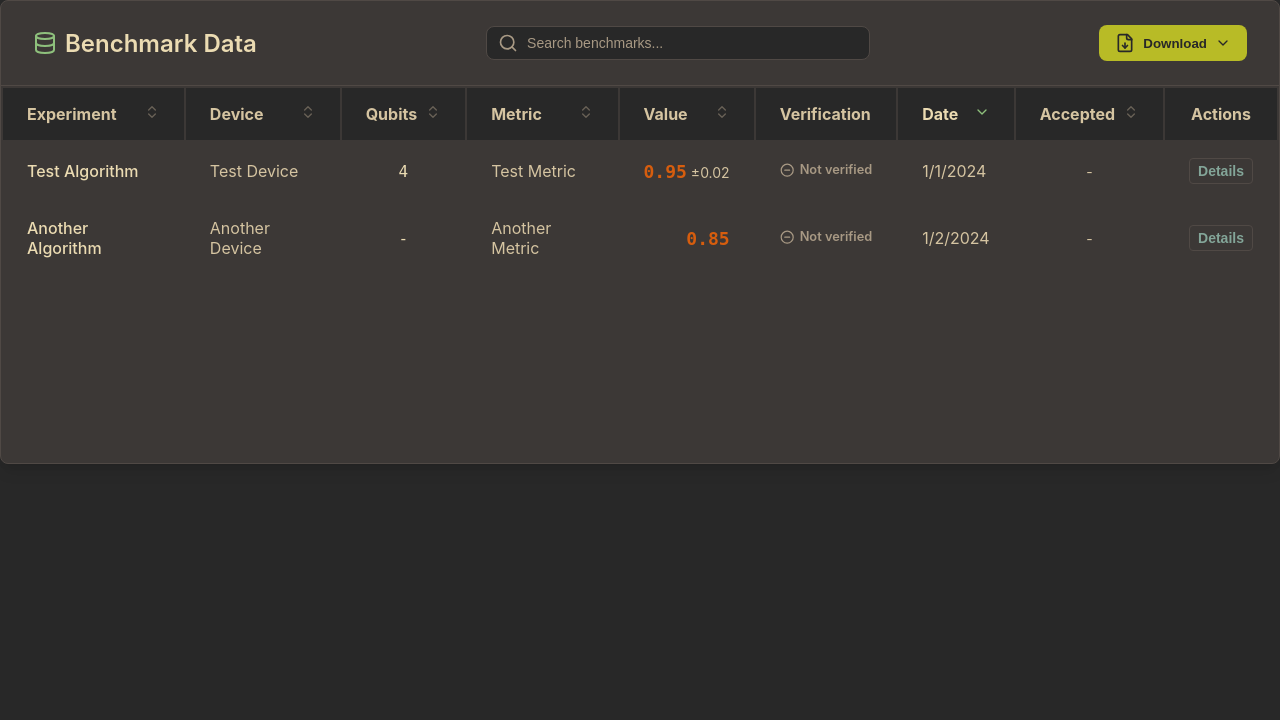
Test case: BenchmarkTable › shows timing coherence ratios when timing is present
Click the text "Test Algorithm" at (93, 171), box [3,142,184,200]
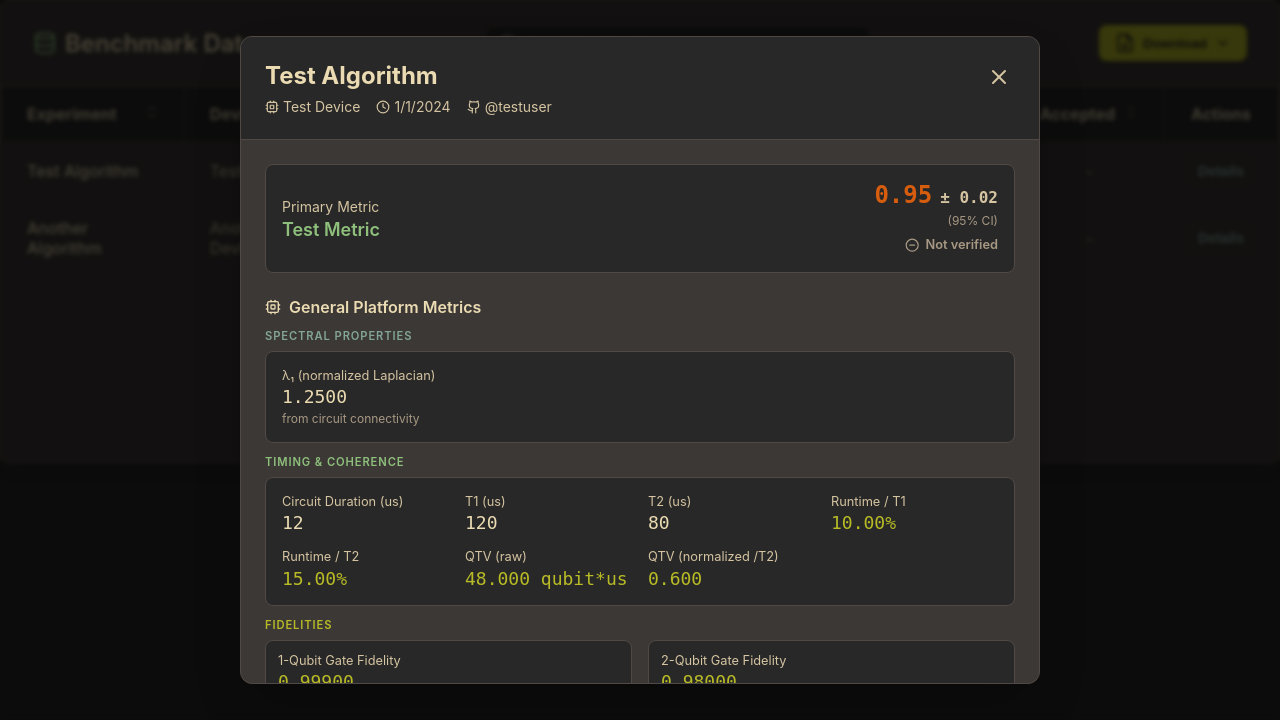
Expected: the text "Timing & Coherence" is shown, [265,455,404,469]
Expected: the text "Runtime / T1" is shown, [831,494,906,509]
Expected: the text "Runtime / T2" is shown, [282,549,359,564]
